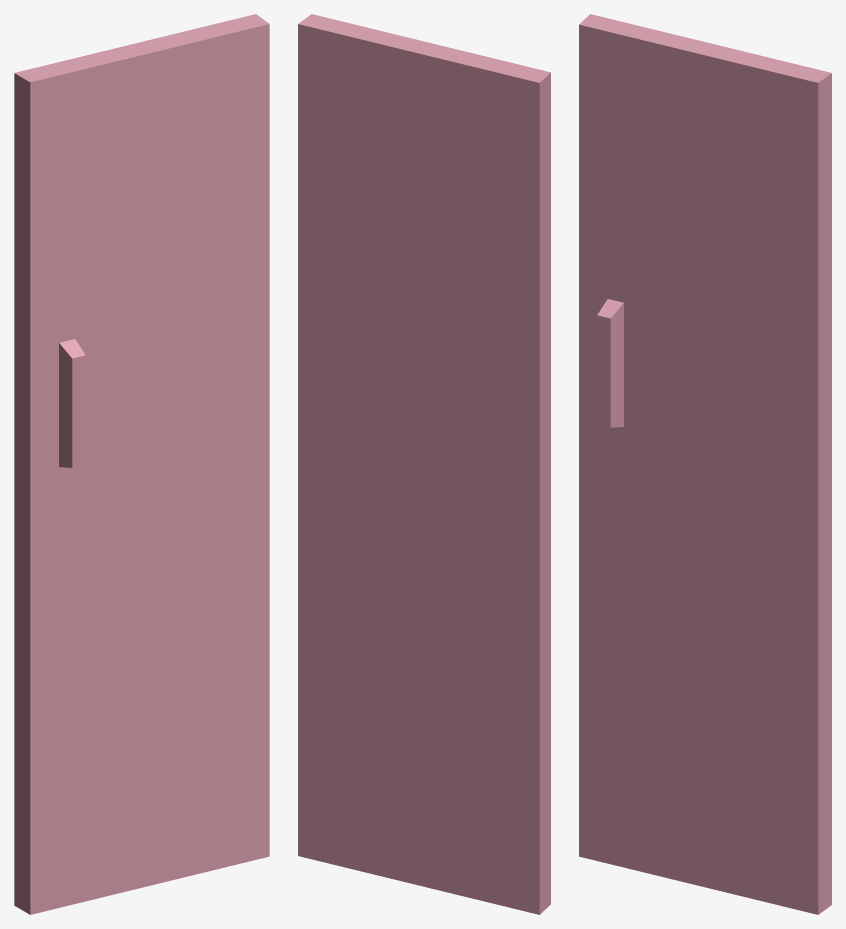
File: CabinetDoor2.fbx
3 renders of one model, left to right at view 1: azimuth 30°, elevation 25°; view 2: azimuth 150°, elevation 25°; view 3: azimuth 330°, elevation 25°, orthographic.
Visible parts, largest first — view 1: CabinetDoor2; view 2: CabinetDoor2; view 3: CabinetDoor2.
Boxes of the visible parts, bbox=[...] form: CabinetDoor2: bbox=[14, 14, 269, 914]; CabinetDoor2: bbox=[298, 14, 550, 914]; CabinetDoor2: bbox=[579, 14, 831, 914].
Bounding box in the file's own units: 54.66 × 180 × 10.04.
